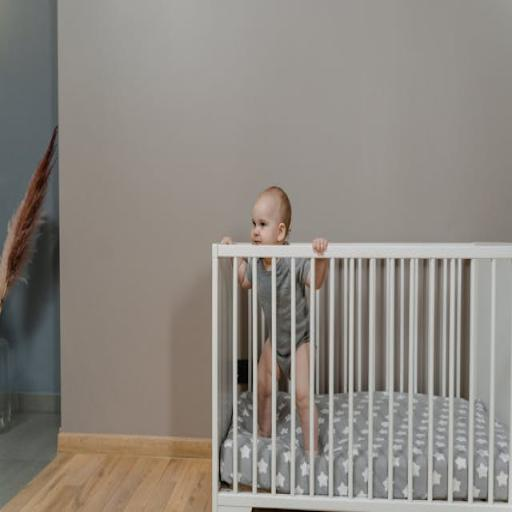baby: (276, 258, 310, 453)
crib: (212, 244, 511, 511)
